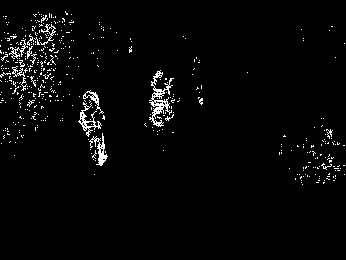person: (74, 89, 110, 169)
